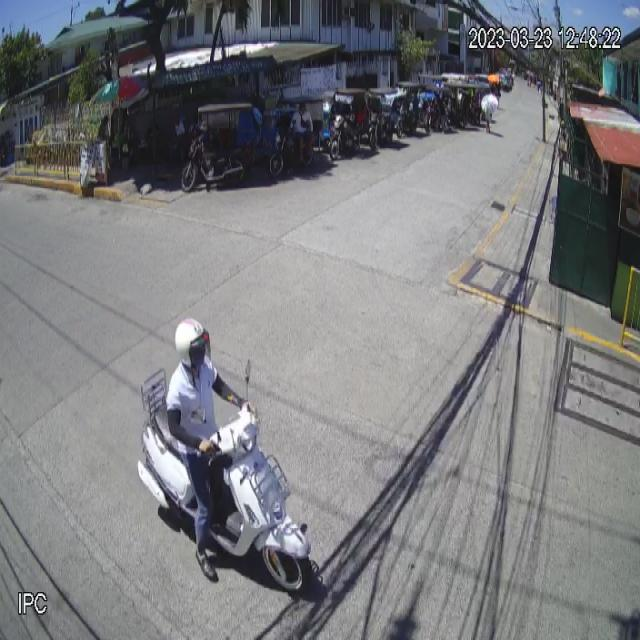Motorcycle: (133, 359, 318, 599)
